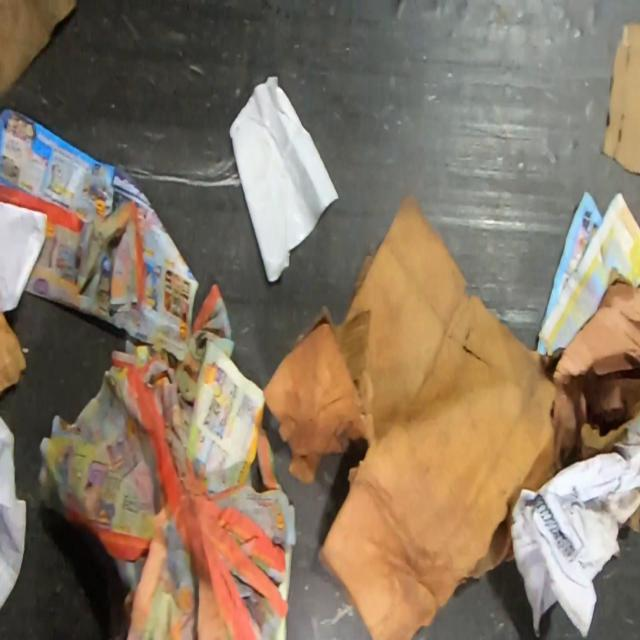cardboard: (262, 189, 640, 639), (0, 0, 79, 115), (599, 20, 640, 177), (0, 312, 28, 398), (626, 505, 640, 534)
